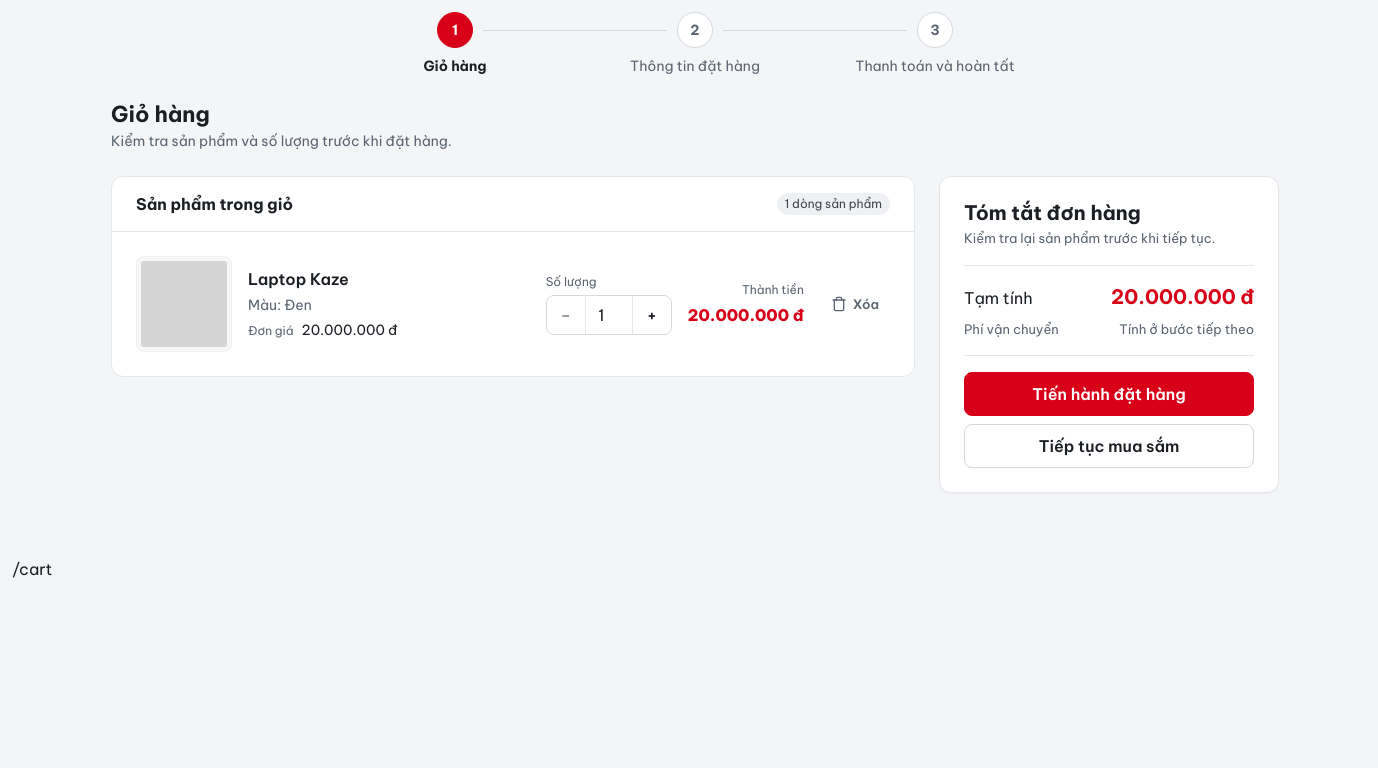
Test case: CartPage: đổi số lượng và xóa › xóa dòng cuối thì hiện trạng thái trống
Step 1. Click the button "Xóa" → (855, 304), box [820,288,890,320]
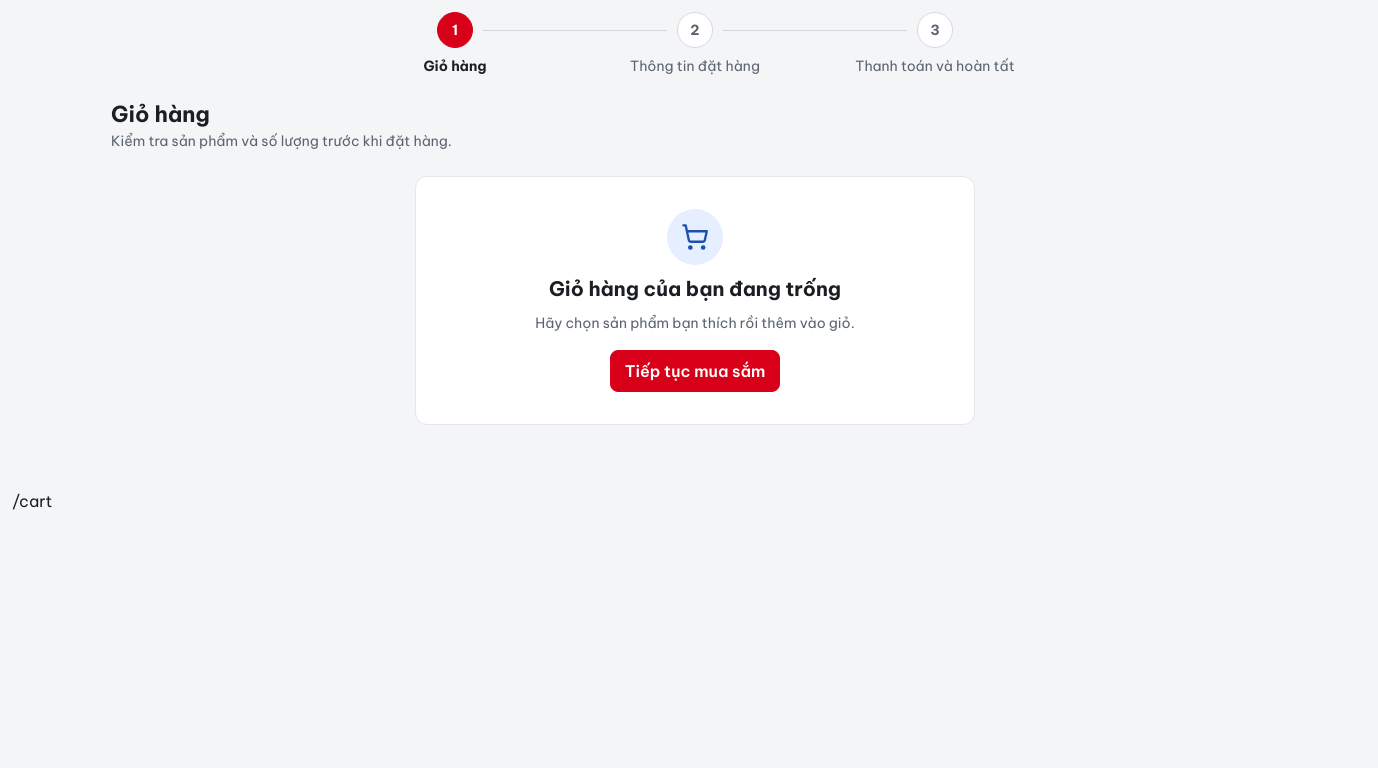
Check: the text "Giỏ hàng của bạn đang trống" is shown, box [549,277,841,301]
